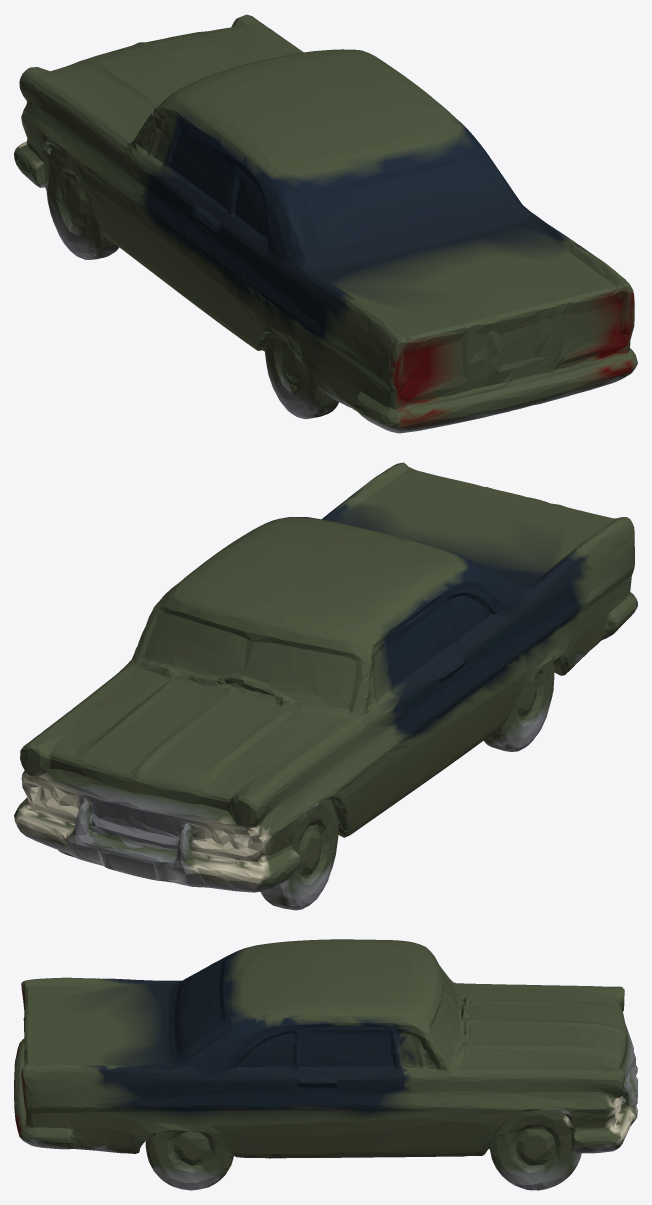
File: vintage_lod1.glb
3 renders of one model, top to bottom at view 1: azimuth 30°, elevation 25°; view 2: azimuth 150°, elevation 25°; view 3: azimuth 270°, elevation 25°, orthographic. The views are drawn at different scales.
Parts seen in each view (by area): view 1: world; view 2: world; view 3: world.
Boxes of the visible parts, left/top/right/bottom form: world: left=14, top=14, right=637, bottom=433; world: left=14, top=462, right=637, bottom=910; world: left=14, top=939, right=637, bottom=1190.
Bounding box in the file's own units: 77.57 × 61.62 × 197.
